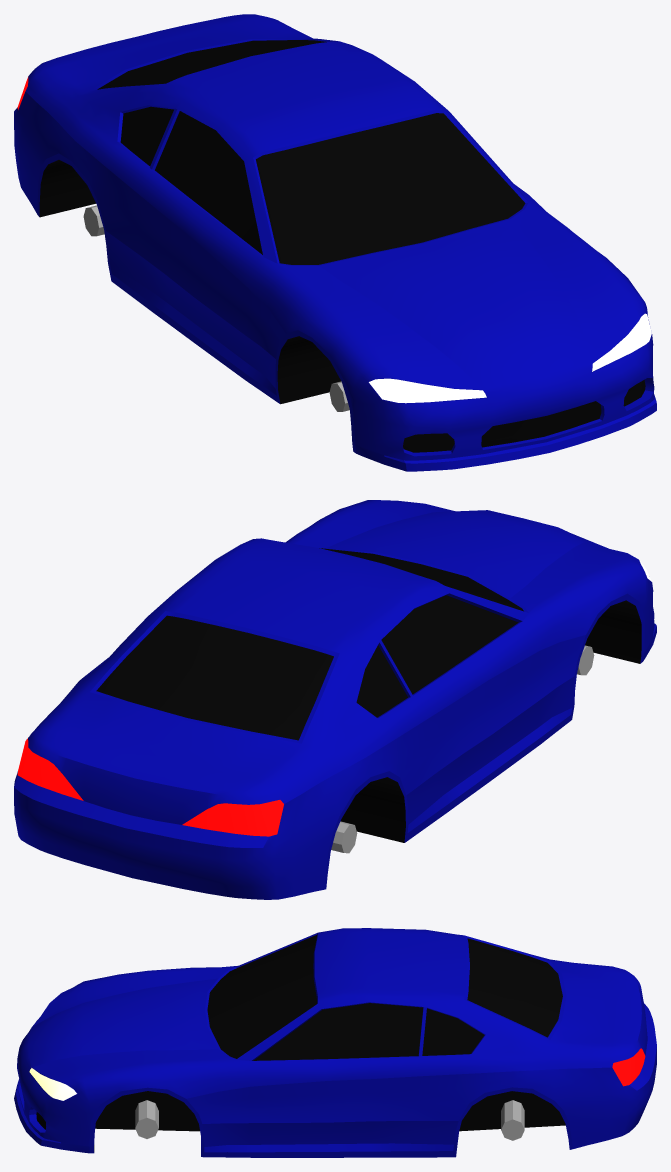
The model's file is lowpolysilvia-xwheels.glb.
3 views of the same model, one above another, from view 1: azimuth 30°, elevation 25°; view 2: azimuth 150°, elevation 25°; view 3: azimuth 270°, elevation 25° (orthographic). The views are drawn at different scales.
Visible parts, largest first — view 1: Silvia; view 2: Silvia; view 3: Silvia.
Part boxes in pixels (x1,y1,x2,y2): Silvia: (14,14,656,471); Silvia: (14,500,656,899); Silvia: (14,928,656,1157).
Bounding box in the file's own units: 1.84 × 1.12 × 4.49.
